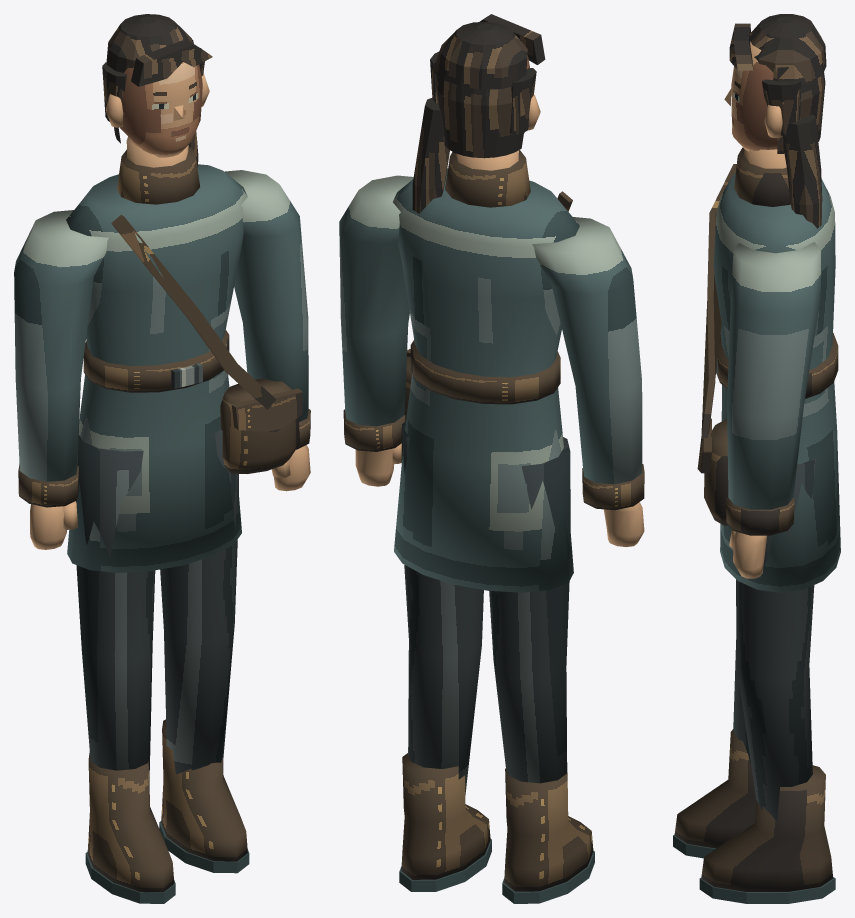
Rendered from mara-graphic.glb.
The picture shows the model from 3 angles, left to right: view 1: azimuth 30°, elevation 25°; view 2: azimuth 150°, elevation 25°; view 3: azimuth 270°, elevation 25°; orthographic projection. The views are drawn at different scales.
Parts seen in each view (by area): view 1: mara-graphic runtime mesh; view 2: mara-graphic runtime mesh; view 3: mara-graphic runtime mesh.
Part boxes in pixels (x1,y1,x2,y2): mara-graphic runtime mesh: (14, 14, 310, 903); mara-graphic runtime mesh: (339, 14, 644, 903); mara-graphic runtime mesh: (673, 14, 840, 903).
Bounding box in the file's own units: 0.602 × 1.7 × 0.3057.
1 material, 1 textured.
